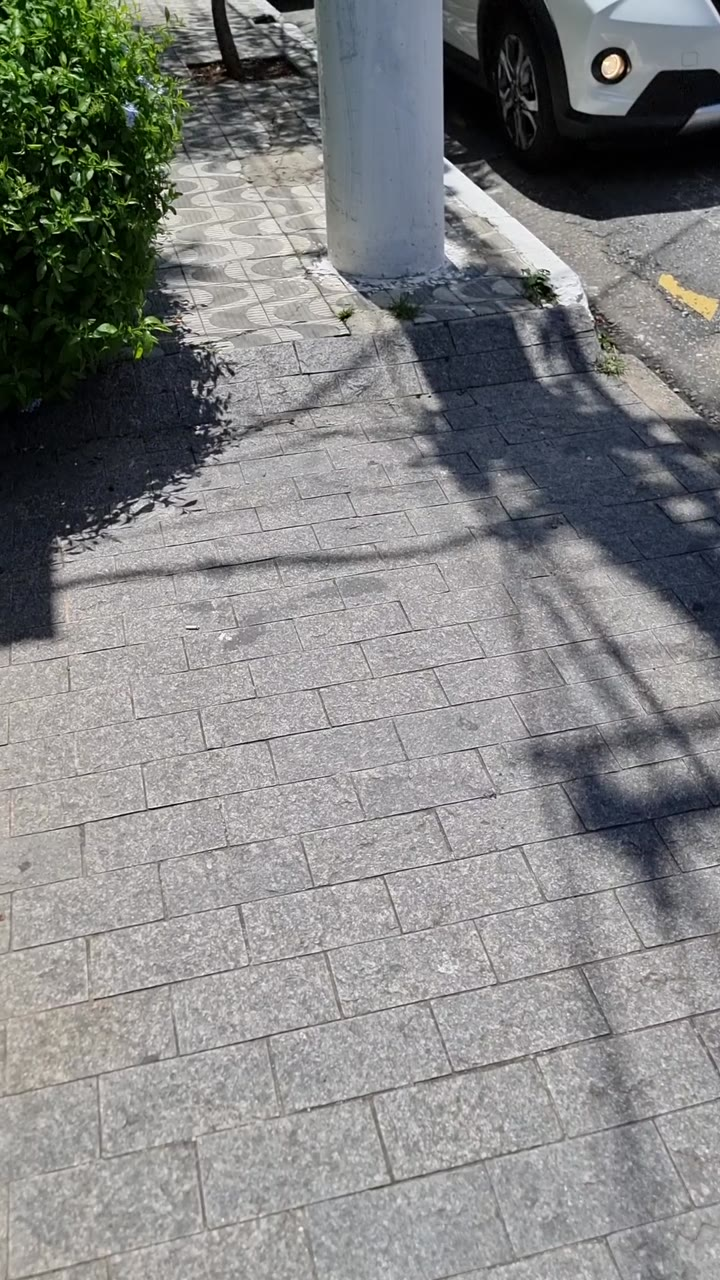obstaculo: (309, 0, 446, 281)
